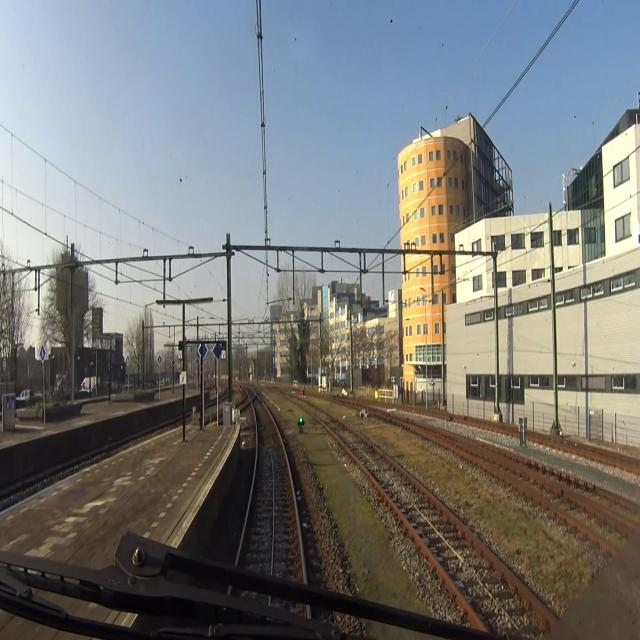rail-track: (310, 407, 524, 605), (238, 398, 303, 584), (529, 466, 634, 516)
